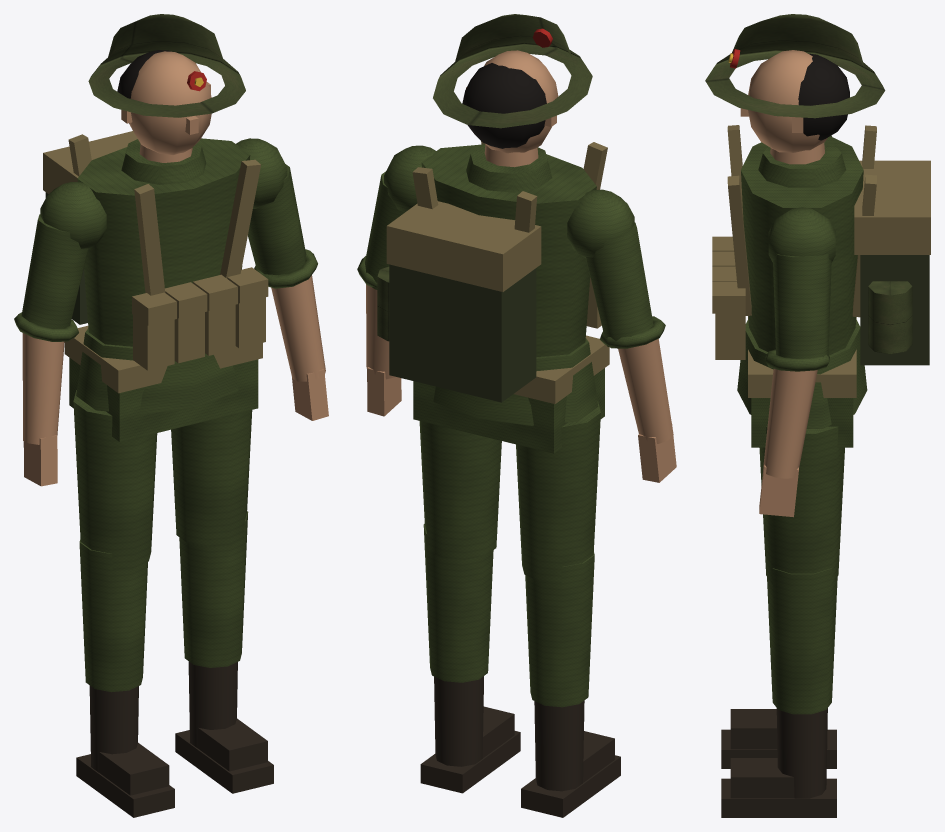
Rendered from pavn_infantry_lod1.glb.
The picture shows the model from 3 angles, left to right: view 1: azimuth 30°, elevation 25°; view 2: azimuth 150°, elevation 25°; view 3: azimuth 270°, elevation 25°; orthographic projection.
Visible parts, largest first — view 1: PAVN_Infantry; view 2: PAVN_Infantry; view 3: PAVN_Infantry.
Boxes of the visible parts, x1=… form: PAVN_Infantry: x1=14, y1=14, x2=328, y2=817; PAVN_Infantry: x1=357, y1=14, x2=676, y2=817; PAVN_Infantry: x1=705, y1=14, x2=930, y2=817.
Bounding box in the file's own units: 0.7517 × 1.81 × 0.4873.
Materials: 9 (2 with a texture image).
